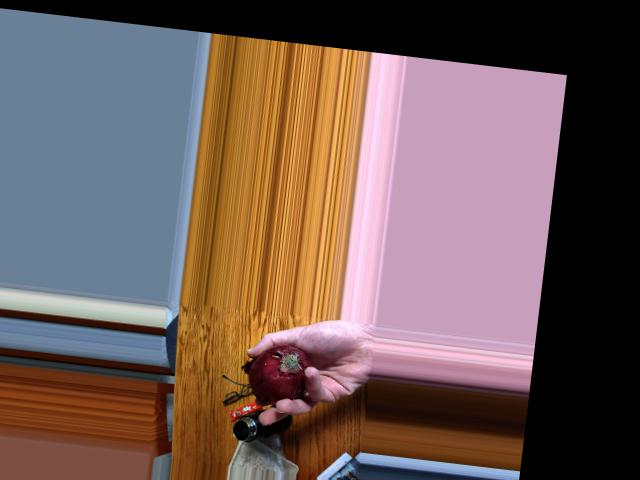onion: (247, 343, 313, 403)
